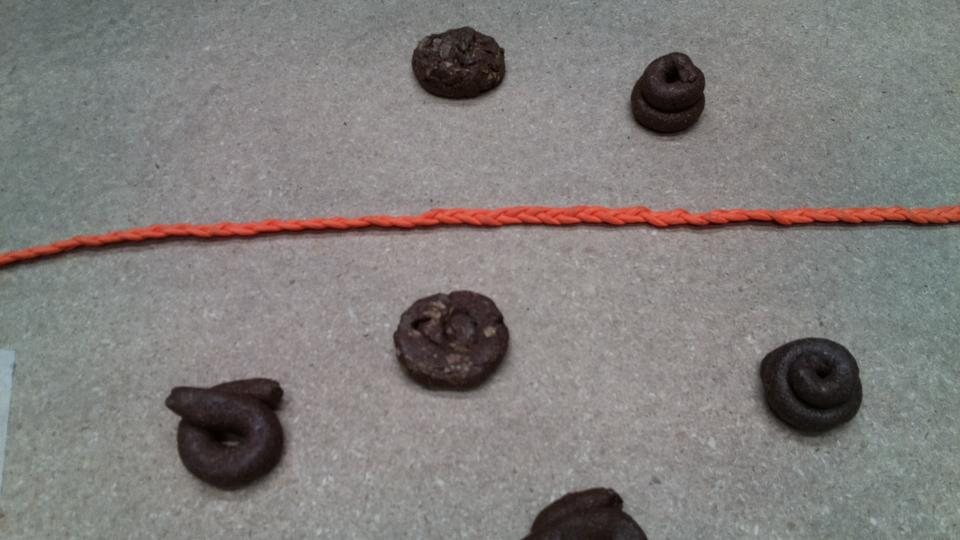poop: (168, 367, 297, 492), (751, 328, 878, 444), (394, 285, 511, 396), (626, 46, 717, 145), (411, 21, 513, 104)
rope: (403, 193, 960, 241), (2, 212, 428, 261)
